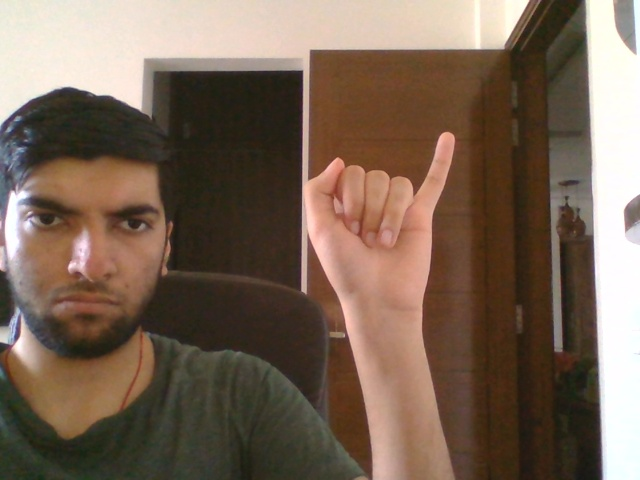LetterI: (304, 131, 455, 321)
